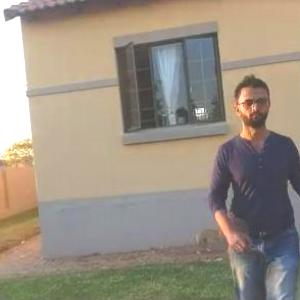follow: (204, 63, 299, 299)
